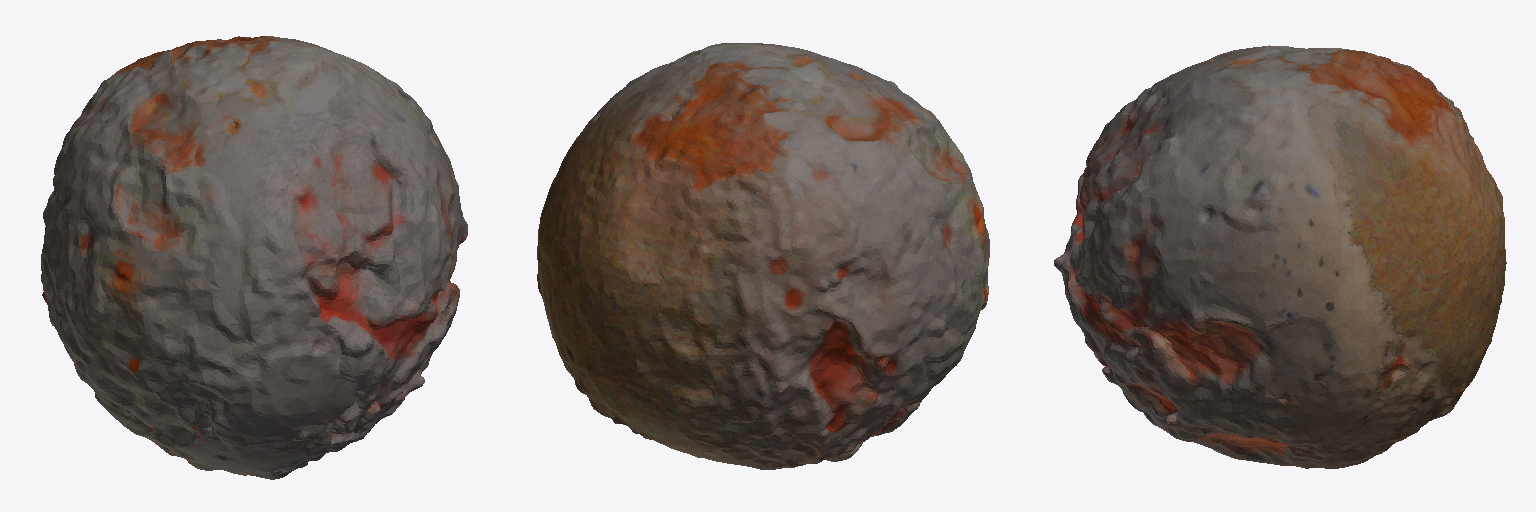
3 views of the same model, side by side, from view 1: azimuth 30°, elevation 25°; view 2: azimuth 150°, elevation 25°; view 3: azimuth 270°, elevation 25° (orthographic).
Visible parts, largest first — view 1: file1; view 2: file1; view 3: file1.
Boxes of the visible parts, x1=… form: file1: x1=41, y1=36, x2=467, y2=479; file1: x1=537, y1=43, x2=989, y2=469; file1: x1=1054, y1=45, x2=1506, y2=468.
Bounding box in the file's own units: 1.96 × 1.92 × 2.
1 materials, 1 textured.